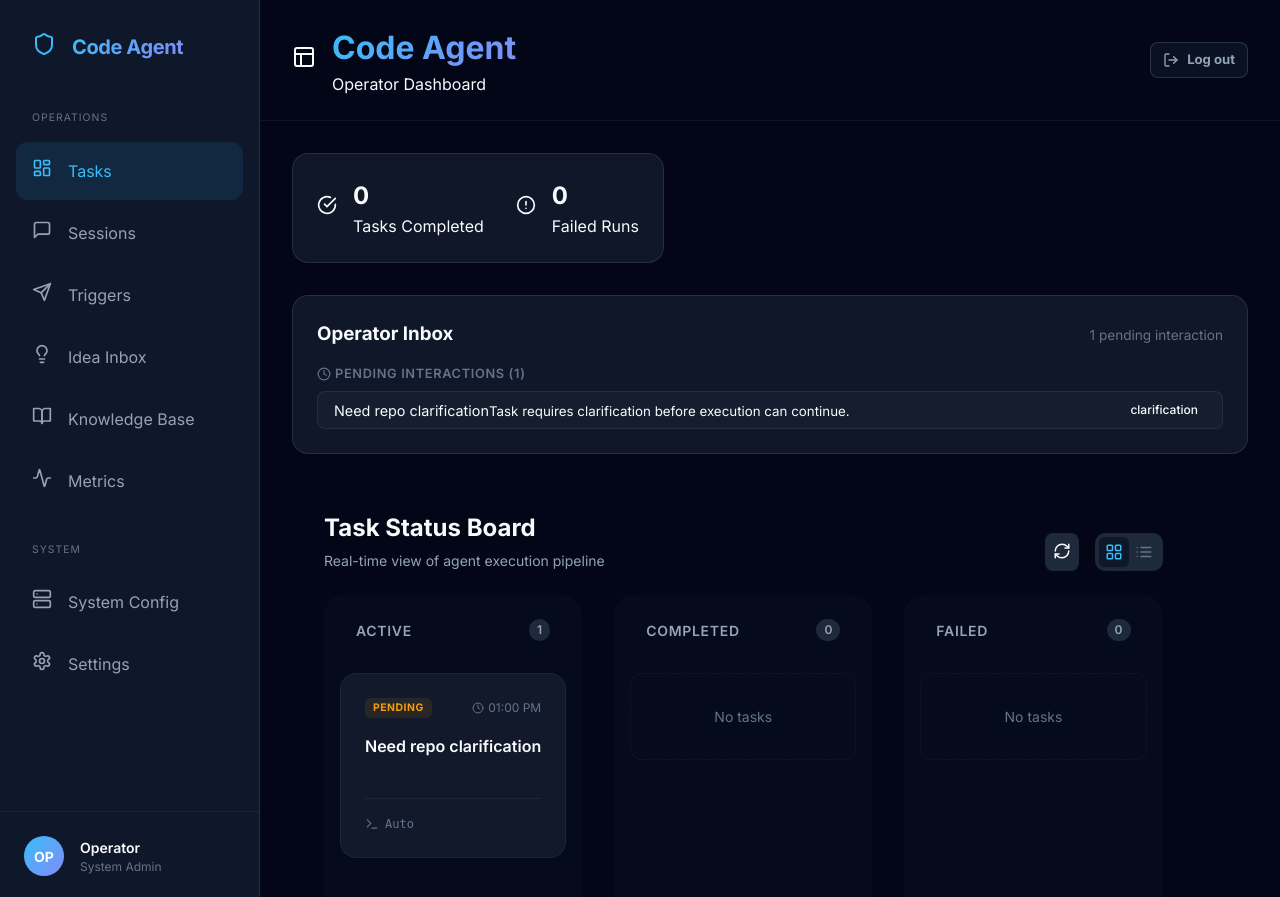
Test case: App › shows TaskSpec and pending interactions in task detail from operator inbox
Expected: the heading "Operator Inbox" is shown, [317,320,453,348]
Click the button "Need repo clarification" at x=770, y=410, box [317,391,1223,429]
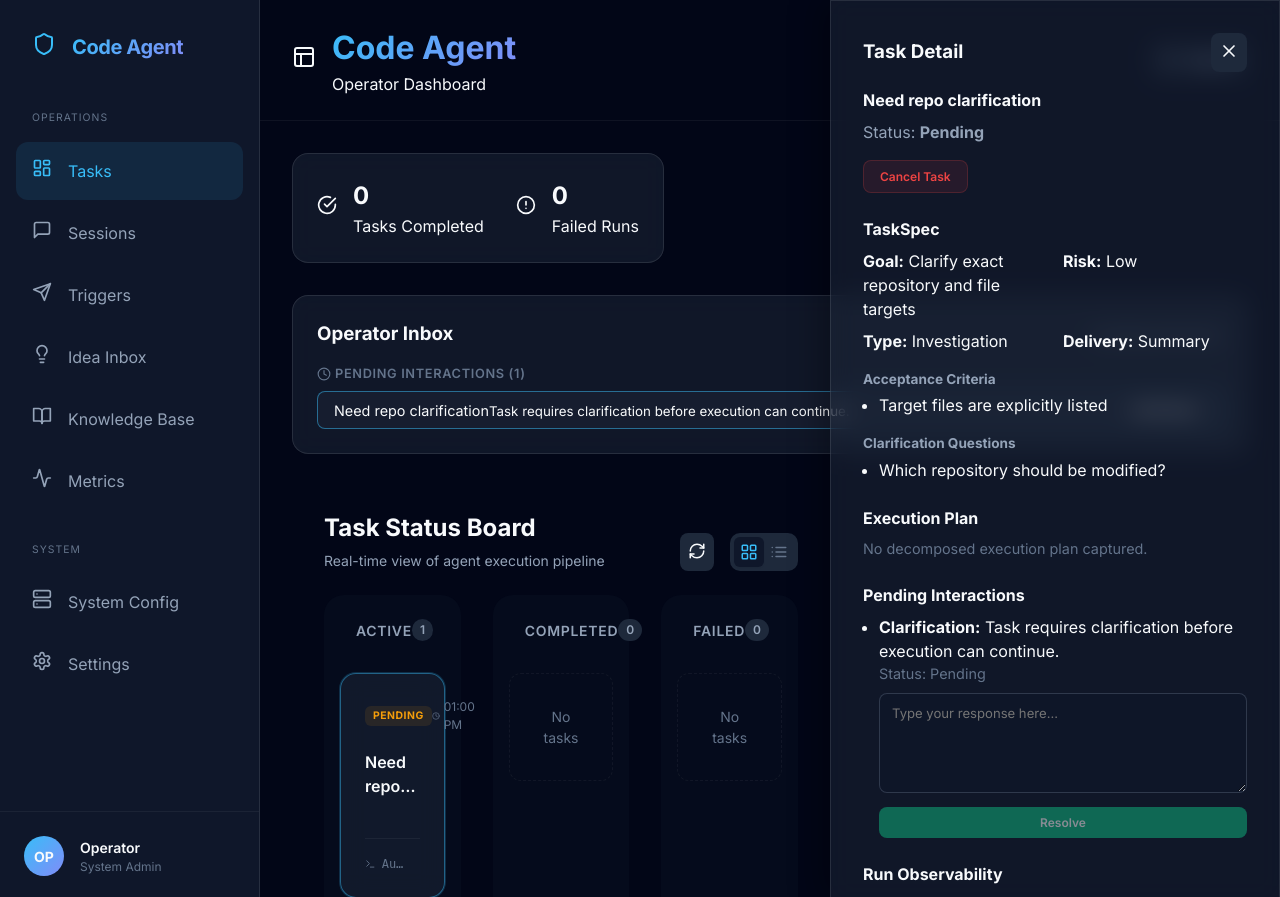
Expected: the text "Task requires clarification before execution can continue." is shown, [489,403,850,419]
Expected: the heading "Task Detail" is shown, [863,38,963,67]
Expected: the text "Clarify exact repository and file targets" is shown, [863,251,1004,319]
